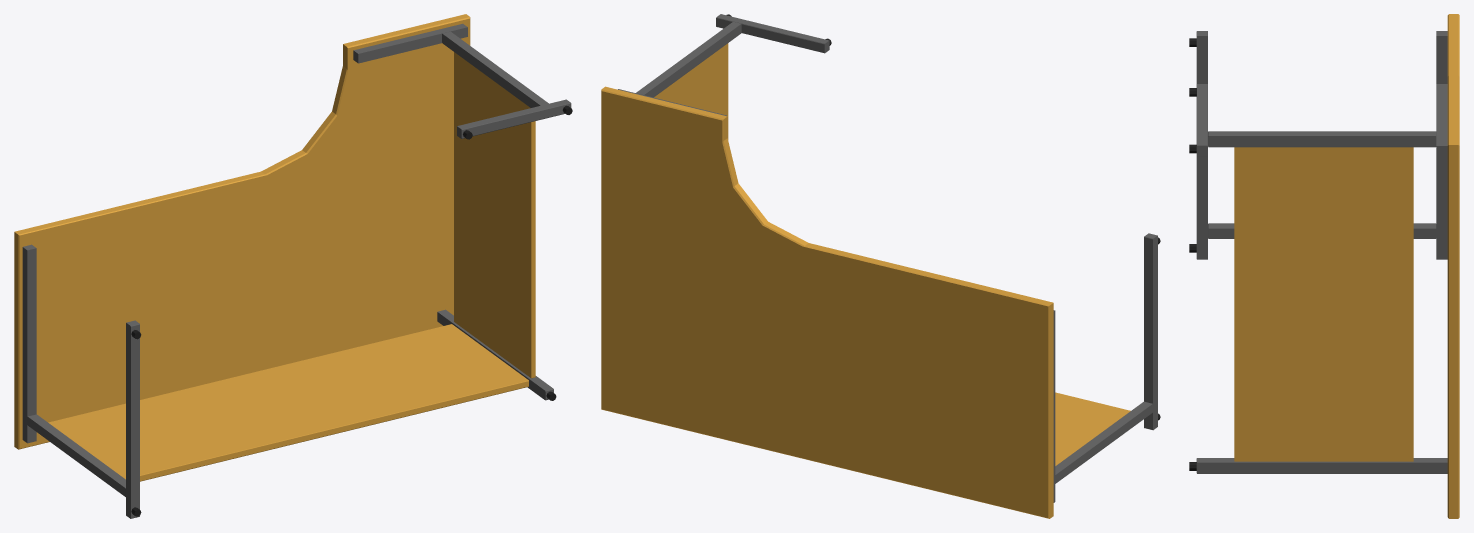
The model's file is OfficeDesk.fbx.
3 views of the same model, side by side, from view 1: azimuth 30°, elevation 25°; view 2: azimuth 150°, elevation 25°; view 3: azimuth 270°, elevation 25° (orthographic). The views are drawn at different scales.
Visible parts, largest first — view 1: OfficeDesk.002; view 2: OfficeDesk.002; view 3: OfficeDesk.002.
Part boxes in pixels (x1=…): OfficeDesk.002: x1=14, y1=14, x2=572, y2=518; OfficeDesk.002: x1=601, y1=14, x2=1160, y2=518; OfficeDesk.002: x1=1189, y1=14, x2=1459, y2=518.
Bounding box in the file's own units: 0.9824 × 1.5 × 2.2.
